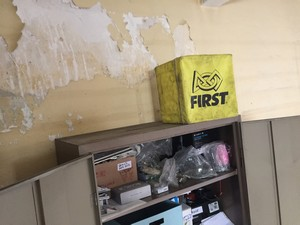cube: (154, 53, 241, 124)
